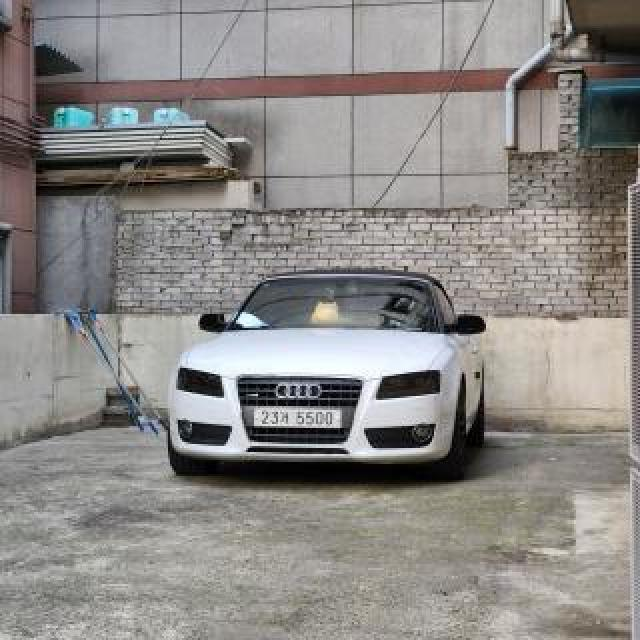car: (163, 261, 500, 491)
illegal_plate: (248, 406, 344, 434)
